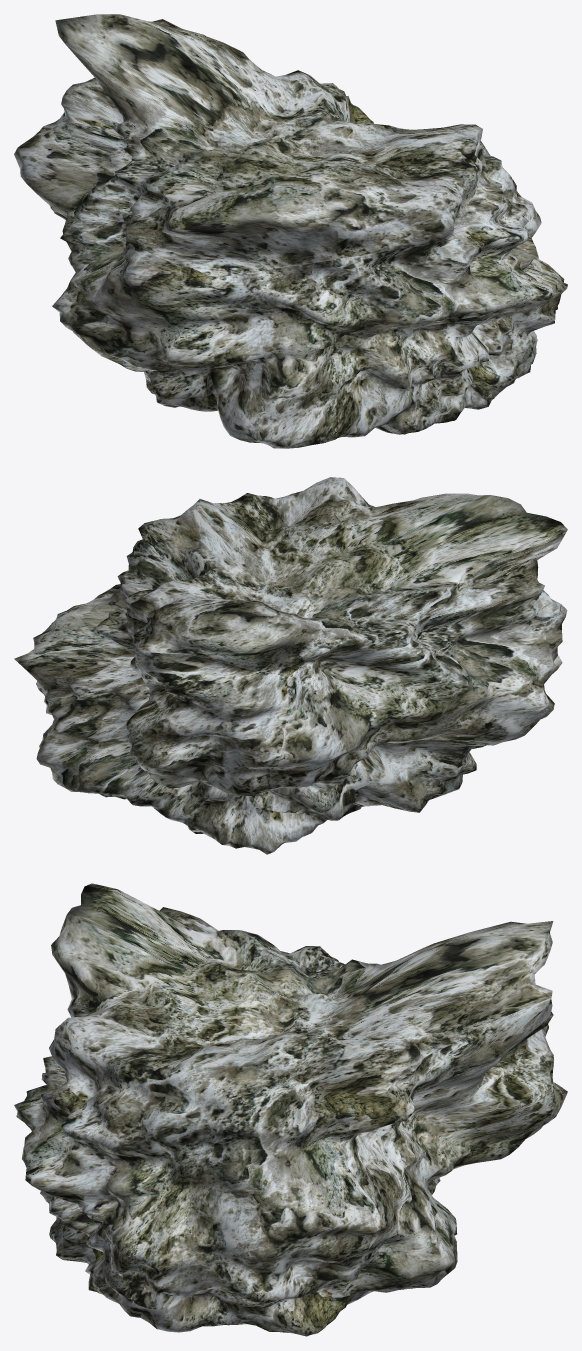
Rendered from frag11.fbx.
3 renders of one model, top to bottom at view 1: azimuth 30°, elevation 25°; view 2: azimuth 150°, elevation 25°; view 3: azimuth 270°, elevation 25°, orthographic. The views are drawn at different scales.
Visible parts, largest first — view 1: Cube; view 2: Cube; view 3: Cube.
Boxes of the visible parts, bbox=[...] form: Cube: bbox=[14, 14, 567, 448]; Cube: bbox=[14, 477, 567, 854]; Cube: bbox=[14, 883, 567, 1336].
Size of the model in its own units: 4.18 by 2.41 by 4.02.
1 material, 1 textured.
